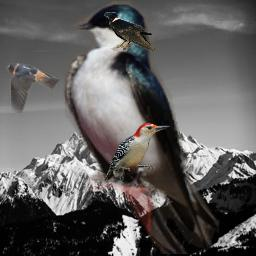Crow: (104, 11, 155, 51)
Swallow: (62, 0, 219, 254), (6, 61, 61, 113)
Woodpecker: (104, 123, 170, 181)
